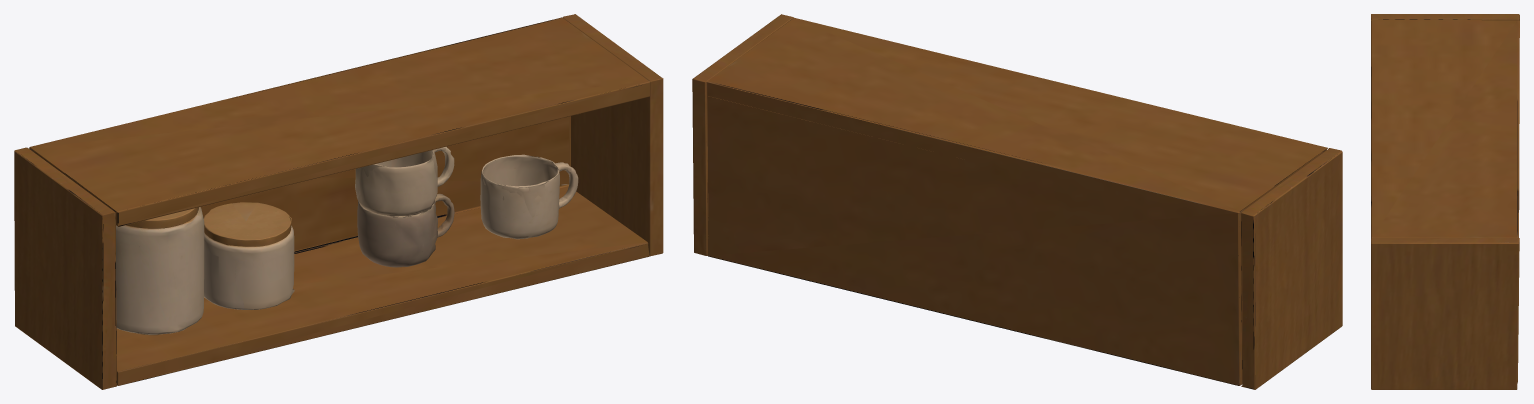
Rendered from desktop.glb.
3 views of the same model, side by side, from view 1: azimuth 30°, elevation 25°; view 2: azimuth 150°, elevation 25°; view 3: azimuth 270°, elevation 25° (orthographic). The views are drawn at different scales.
Visible parts, largest first — view 1: wallshelf; view 2: wallshelf; view 3: wallshelf.
Boxes of the visible parts, x1,y1,x2,y2 form: wallshelf: (14, 14, 663, 389); wallshelf: (692, 14, 1342, 389); wallshelf: (1371, 14, 1519, 389).
Size of the model in its own units: 0.8998 by 0.2688 by 0.2461.
1 material, 1 textured.
